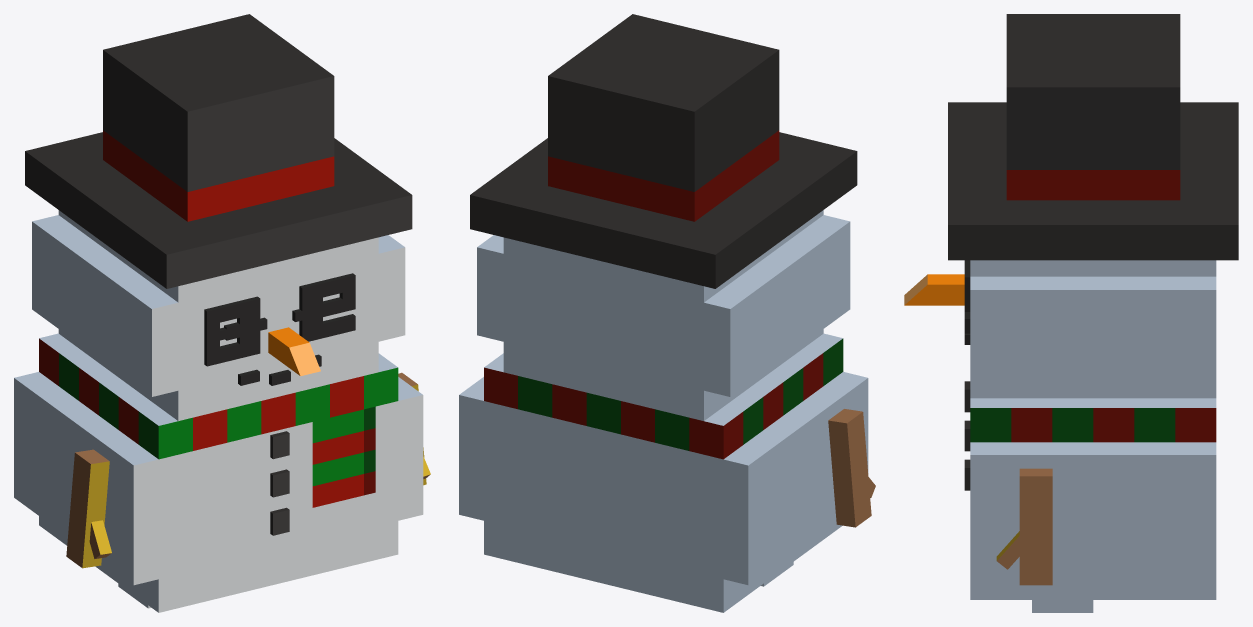
3 renders of one model, left to right at view 1: azimuth 30°, elevation 25°; view 2: azimuth 150°, elevation 25°; view 3: azimuth 270°, elevation 25°, orthographic. The views are drawn at different scales.
Visible parts, largest first — view 1: Ch_174_Head, Ch_174, Ch_174_Hand_L, Ch_174_Eye_03_L, Ch_174_Eye_03_R, Ch_174_Eye_02, Ch_174_Eye_01; view 2: Ch_174_Head, Ch_174, Ch_174_Hand_L; view 3: Ch_174_Head, Ch_174, Ch_174_Hand_R, Ch_174_Leg_R, Ch_174_Eye_03_R.
Part boxes in pixels (x1,y1,x2,y2): Ch_174_Head: (25,14,412,420); Ch_174: (14,333,423,612); Ch_174_Hand_L: (66,449,111,568); Ch_174_Eye_03_L: (204,296,260,366); Ch_174_Eye_03_R: (299,273,355,341); Ch_174_Eye_02: (220,300,346,340); Ch_174_Eye_01: (237,294,322,344); Ch_174_Head: (470,14,857,420); Ch_174: (459,333,868,612); Ch_174_Hand_L: (828,409,875,527); Ch_174_Head: (904,14,1238,398); Ch_174: (964,381,1216,599); Ch_174_Hand_R: (996,468,1052,585); Ch_174_Leg_R: (1032,600,1093,612); Ch_174_Eye_03_R: (964,260,970,333).
Size of the model in its own units: 7.21 by 9.99 by 5.91.
